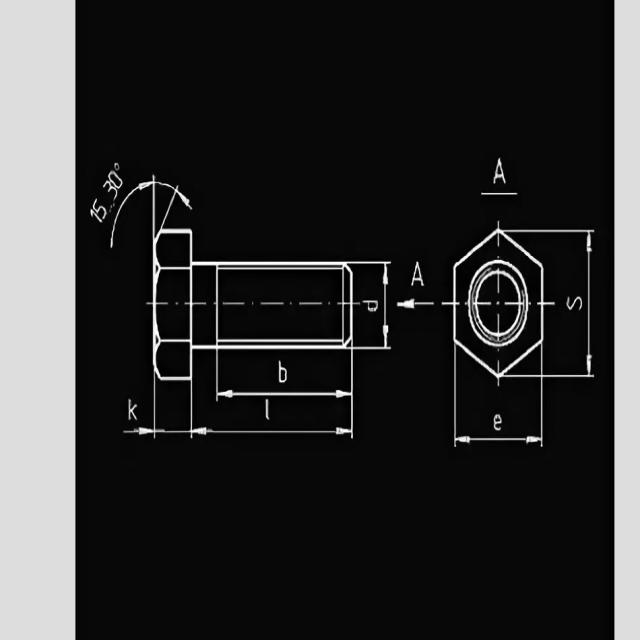marking_line: (193, 351, 358, 444), (122, 381, 360, 440), (189, 382, 359, 441), (545, 226, 596, 381), (214, 350, 355, 405), (450, 379, 545, 448), (117, 175, 195, 226), (353, 259, 391, 351), (120, 378, 157, 439), (398, 298, 452, 311)
numeric: (92, 198, 107, 220), (102, 180, 117, 200), (108, 170, 122, 189), (89, 209, 102, 224)
special_symbol: (114, 161, 121, 171)
